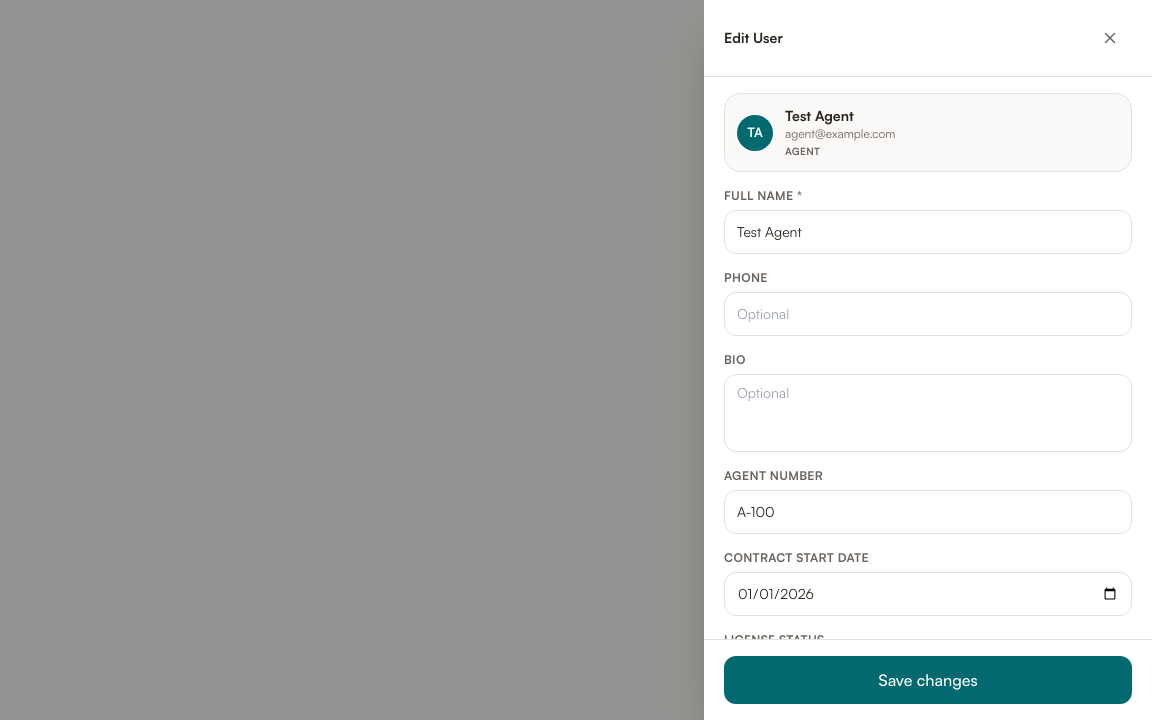
Test: EditUserDrawer › blocks save when name is shorter than 2 chars
Replace the text in the field labelled "Full Name *" with "A": (928, 232) [724, 210, 1132, 254]
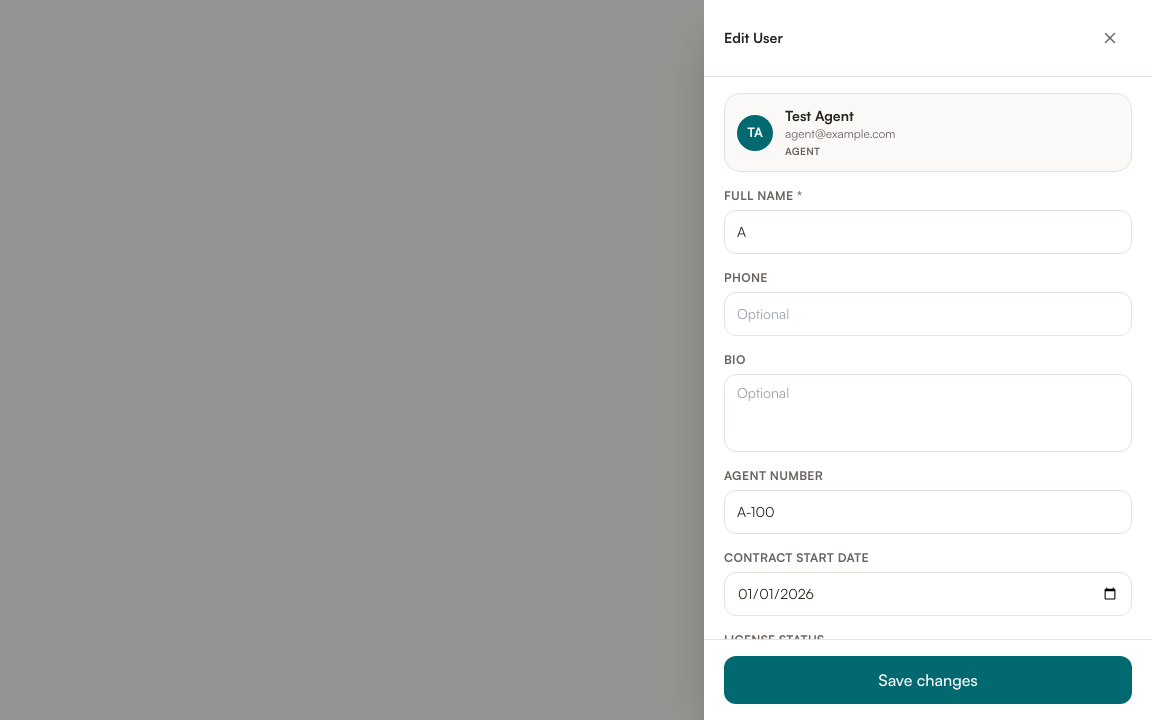
Click the button "Save changes": (928, 680) [724, 656, 1132, 704]
(page scrolled)
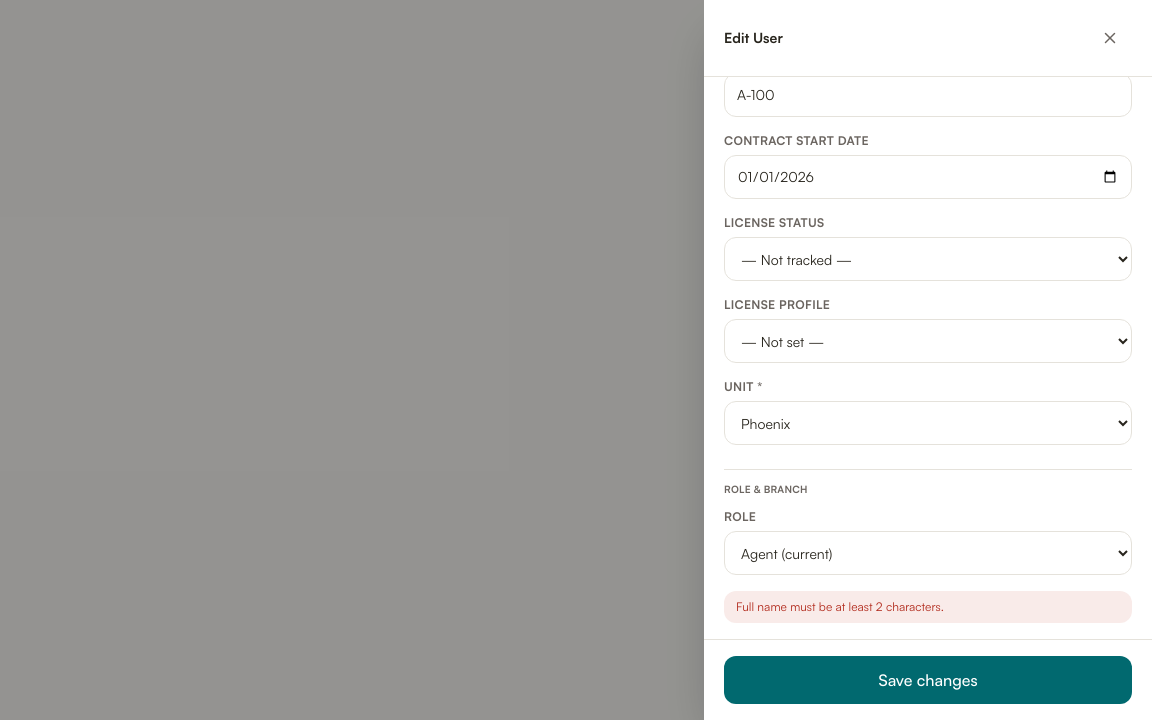
Result: the text "Full name must be at least 2 characters." is shown at [724, 591, 1132, 623]
